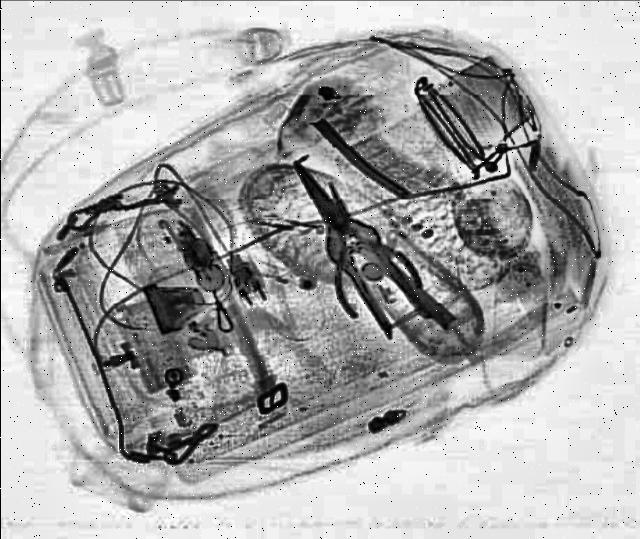Pliers: (277, 170, 429, 322)
